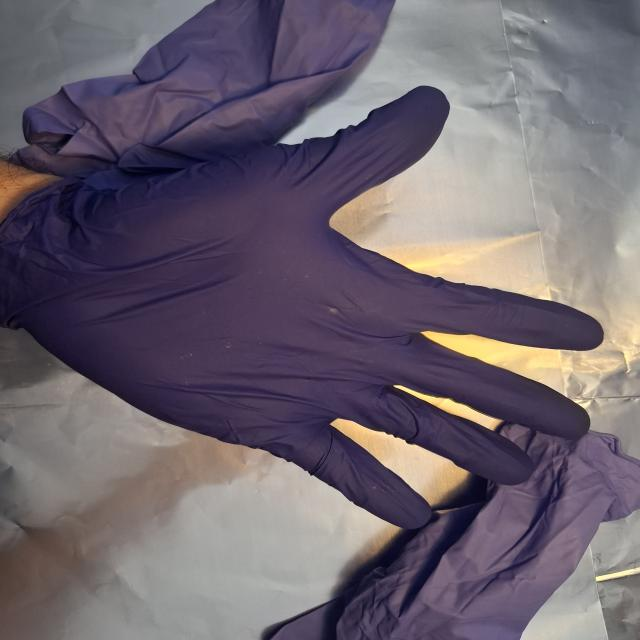glove_on: (5, 80, 608, 532)
